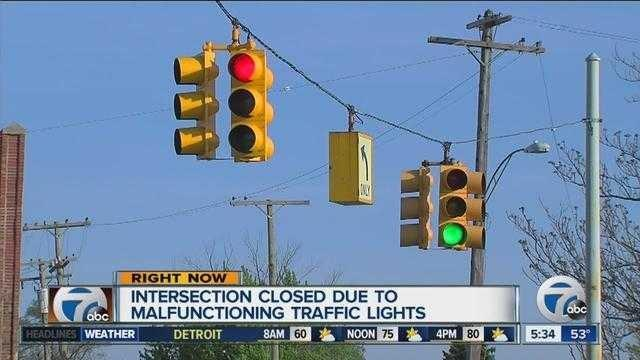2: (441, 165, 469, 251)
3: (230, 122, 264, 161), (228, 87, 266, 118), (440, 194, 468, 219), (442, 167, 468, 193)
5: (226, 46, 264, 84)
8: (228, 47, 264, 165)
red traffic light: (443, 220, 469, 250)
